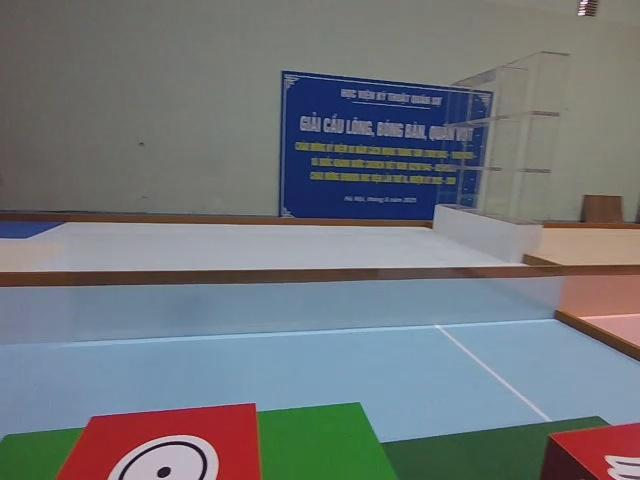R2 Real: (49, 401, 262, 480)
